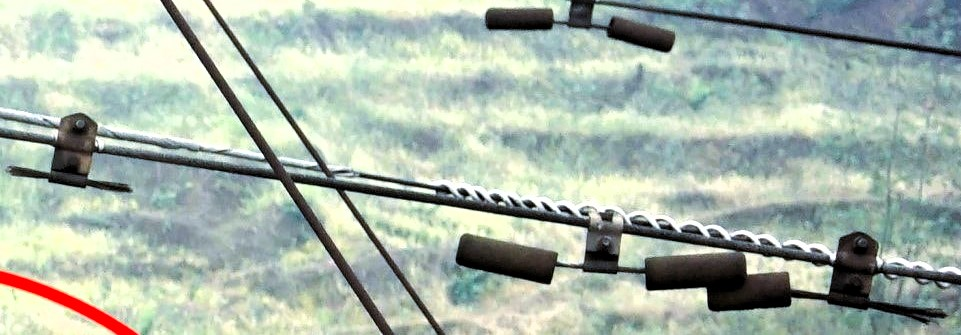Damage of shockproof hammer: (695, 223, 958, 332), (2, 104, 138, 215)
